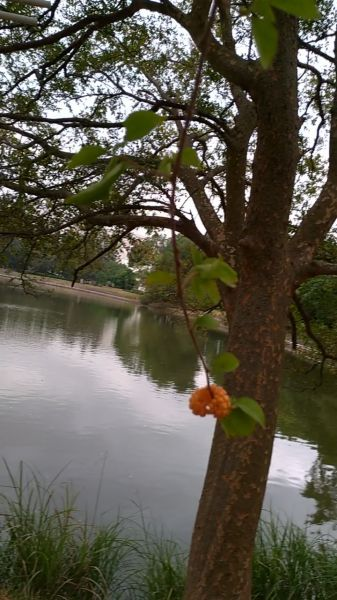eggs: (186, 379, 235, 424)
